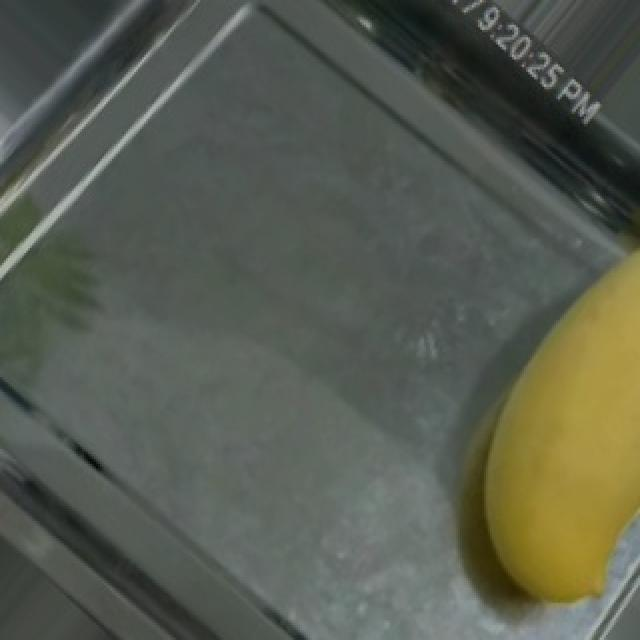fruit: (432, 250, 640, 640)
